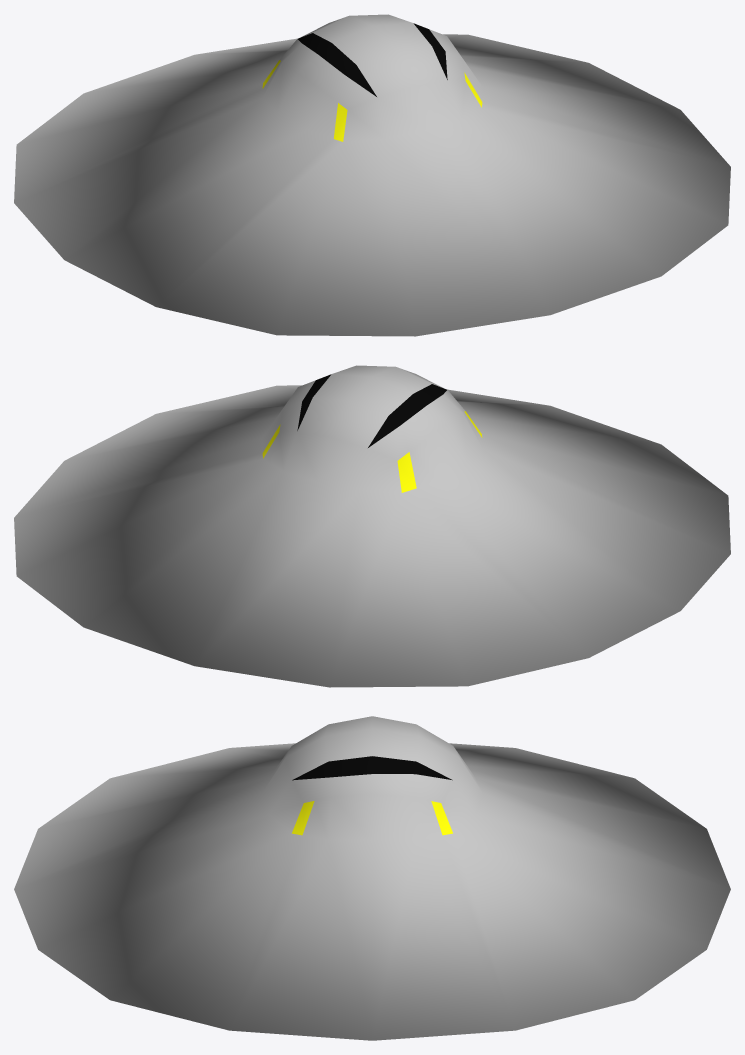
Rendered from UFO.fbx.
3 views of the same model, one above another, from view 1: azimuth 30°, elevation 25°; view 2: azimuth 150°, elevation 25°; view 3: azimuth 270°, elevation 25° (orthographic).
Parts seen in each view (by area): view 1: UFO.001; view 2: UFO.001; view 3: UFO.001.
Part boxes in pixels (x1,y1,x2,y2): UFO.001: (14, 14, 730, 336); UFO.001: (14, 365, 730, 687); UFO.001: (14, 716, 730, 1040).
Size of the model in its own units: 532 by 176 by 532.
